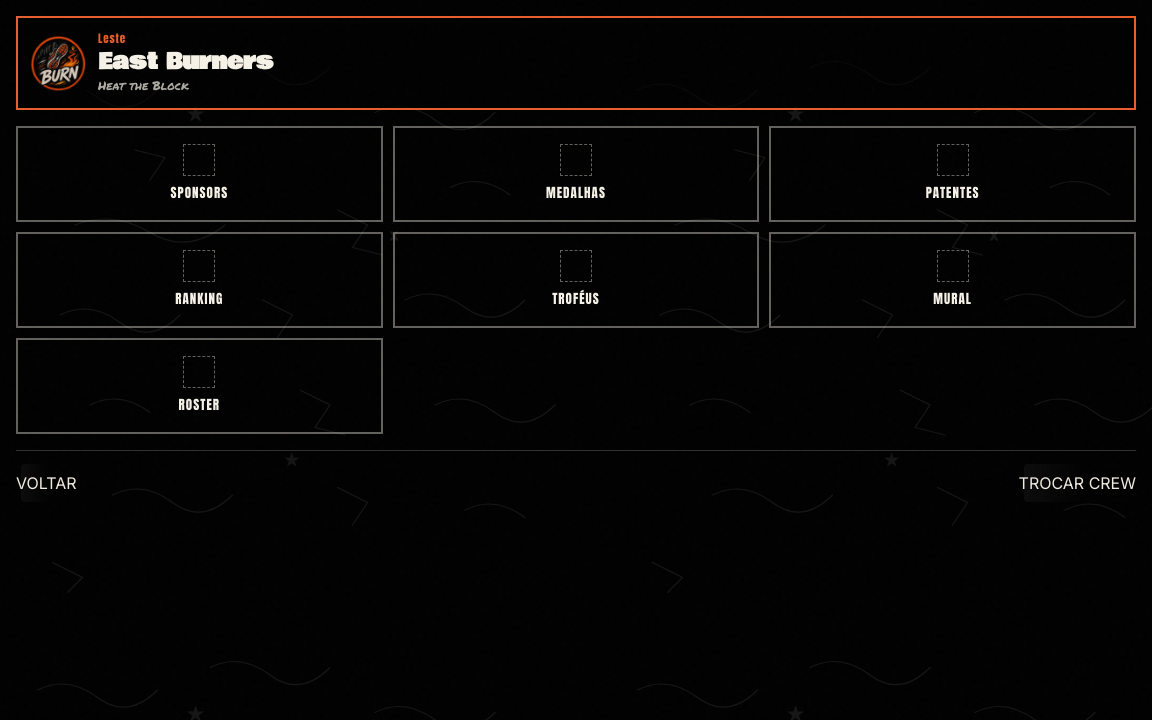
it: SedeShell › opens a room when its card is clicked and shows the placeholder
Step 1. Click the button "MEDALHAS" → [576, 174], box [393, 126, 759, 222]
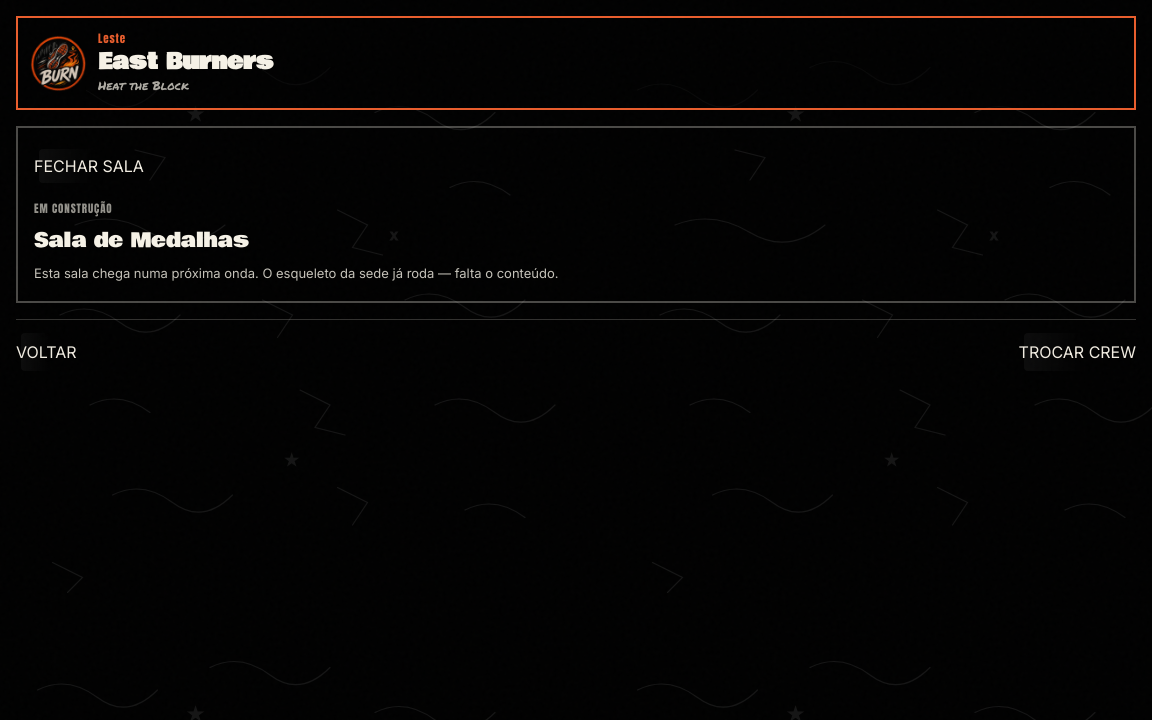
Result: the element with test id "sede-room-sala-medalhas" is shown at [34, 200, 558, 281]
